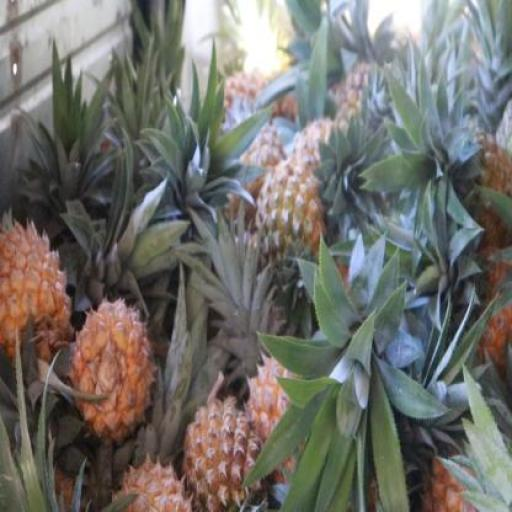Pineapple - v8 v1: (0, 220, 79, 366), (74, 300, 152, 434), (184, 399, 263, 512)
